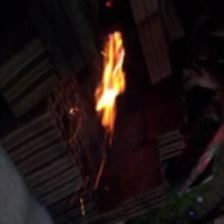fire: (75, 25, 144, 139)
